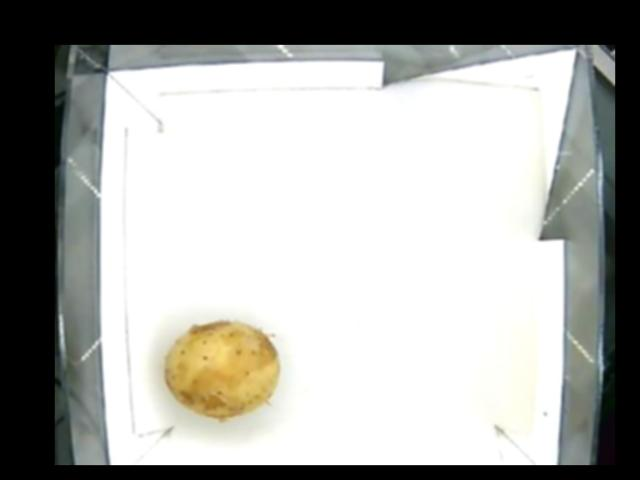Potato: (162, 321, 277, 420)
